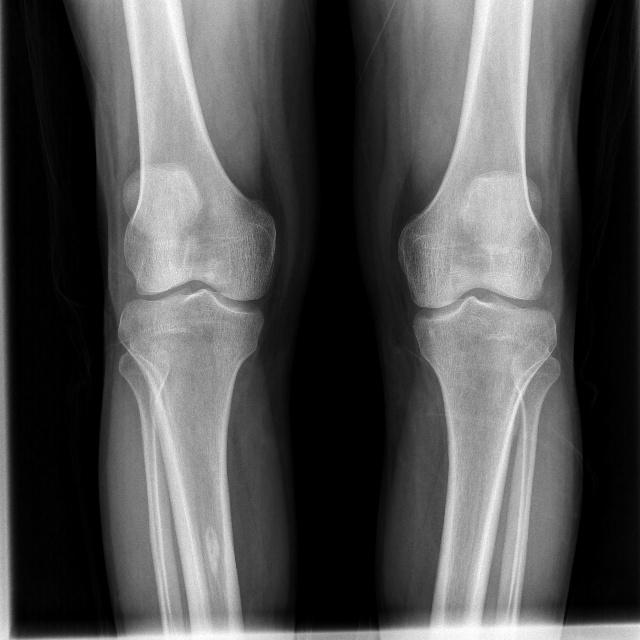Knee: (397, 196, 557, 373), (116, 198, 280, 367)
